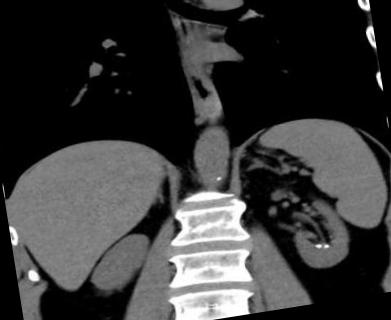Tas_Var: (322, 242, 331, 250), (314, 242, 322, 250)
